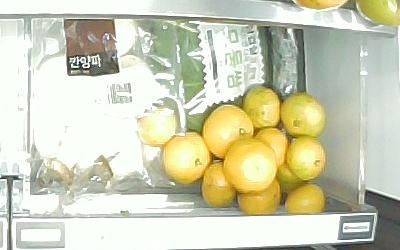tangerine: (224, 138, 279, 193), (201, 104, 253, 158), (164, 133, 210, 185), (281, 94, 327, 138), (284, 137, 326, 181), (244, 84, 281, 129), (200, 161, 235, 208), (236, 179, 282, 214), (256, 128, 286, 170), (285, 184, 325, 214)
tangerine_vinyl: (136, 105, 177, 147)
